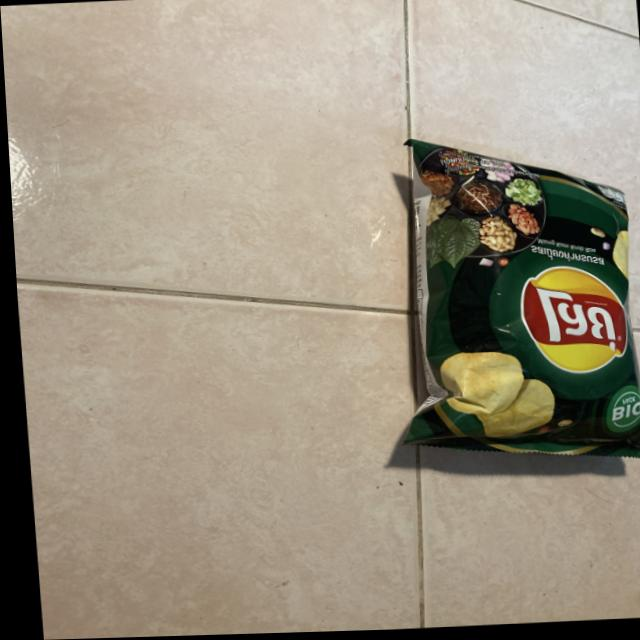Laygreen: (325, 139, 640, 486)
